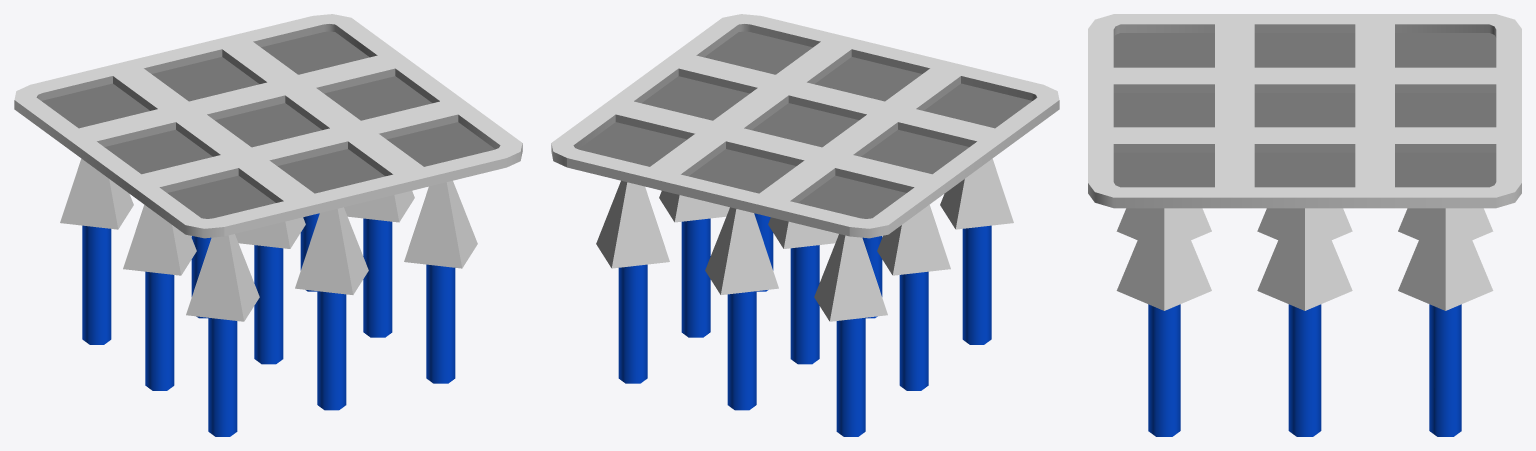
Rendered from Obstacle-20.fbx.
3 views of the same model, side by side, from view 1: azimuth 30°, elevation 25°; view 2: azimuth 150°, elevation 25°; view 3: azimuth 270°, elevation 25° (orthographic). The views are drawn at different scales.
Visible parts, largest first — view 1: small spike ground, small spike; view 2: small spike ground, small spike; view 3: small spike ground, small spike.
Part boxes in pixels (<box>): small spike ground: <box>14,14,522,238</box>; small spike: <box>60,158,477,436</box>; small spike ground: <box>551,14,1059,238</box>; small spike: <box>596,158,1013,436</box>; small spike ground: <box>1088,14,1521,208</box>; small spike: <box>1116,208,1493,436</box>.
Size of the model in its own units: 186 by 125 by 185.
